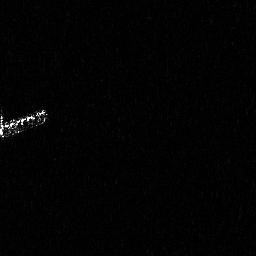ship: (1, 106, 47, 142)
